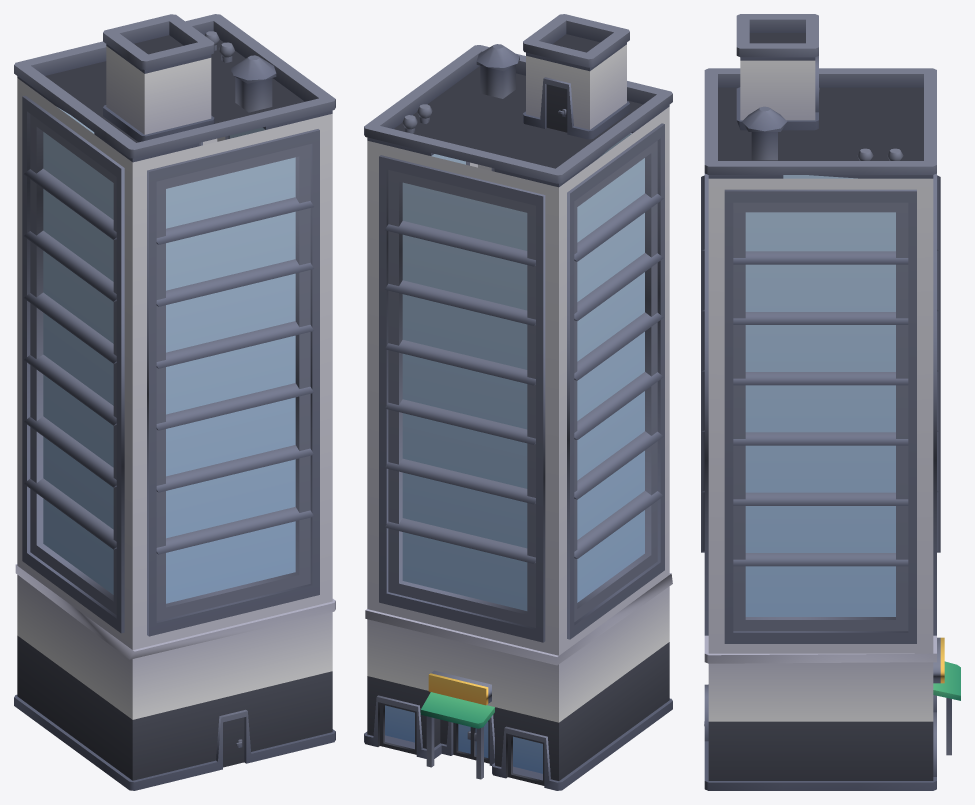
The model's file is tower-c.glb.
3 renders of one model, left to right at view 1: azimuth 30°, elevation 25°; view 2: azimuth 150°, elevation 25°; view 3: azimuth 270°, elevation 25°, orthographic. The views are drawn at different scales.
Visible parts, largest first — view 1: building-skyscraper-c; view 2: building-skyscraper-c; view 3: building-skyscraper-c.
Boxes of the visible parts, x1,y1,x2,y2 form: building-skyscraper-c: [14, 14, 335, 790]; building-skyscraper-c: [364, 14, 672, 790]; building-skyscraper-c: [701, 14, 960, 790].
Size of the model in its own units: 1.28 by 4.08 by 1.39.
1 material, 1 textured.
